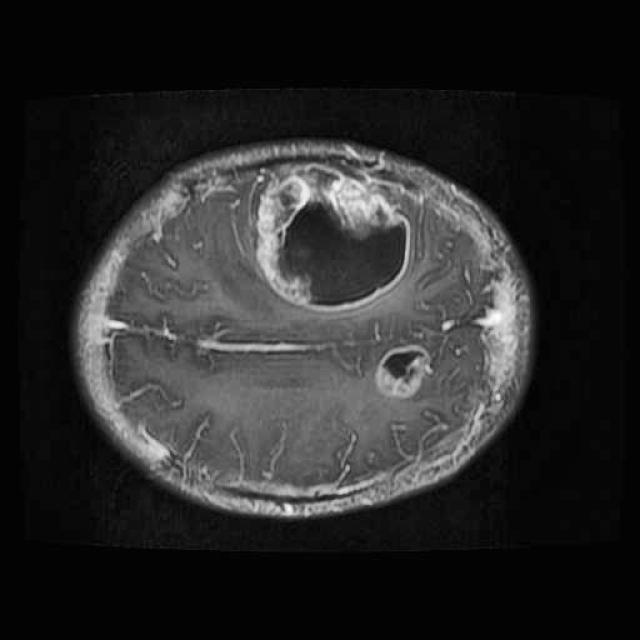Non-Tumor: (242, 150, 425, 329)
